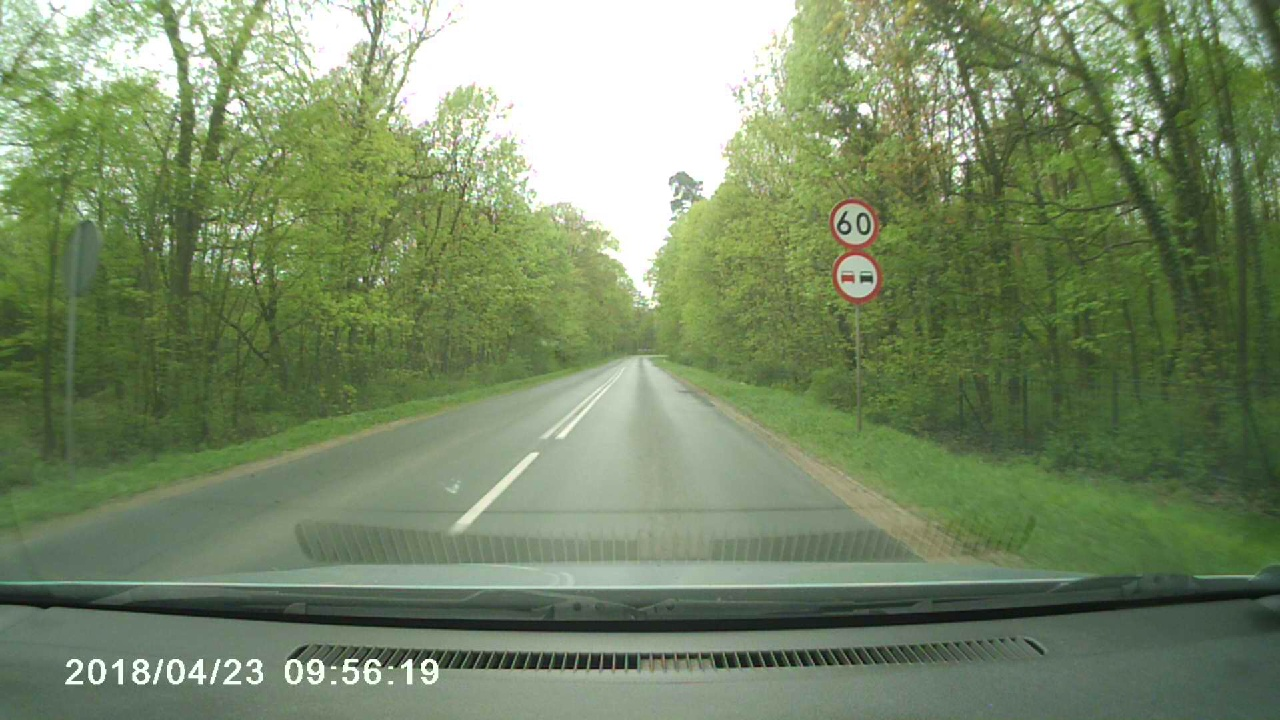B25: (832, 253, 882, 303)
B33_60: (829, 199, 880, 249)
